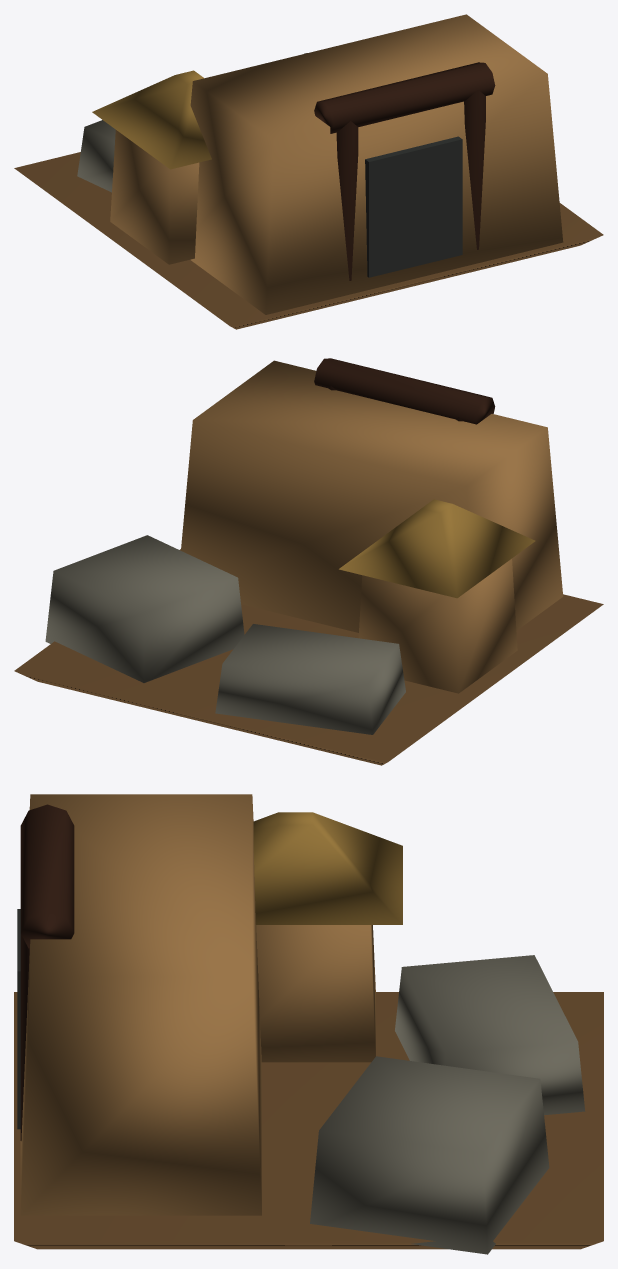
File: R50_HAN_LUOYANG_MINE_ADIT_A.fbx
The picture shows the model from 3 angles, top to bottom: view 1: azimuth 30°, elevation 25°; view 2: azimuth 150°, elevation 25°; view 3: azimuth 270°, elevation 25°; orthographic projection. The views are drawn at different scales.
Parts seen in each view (by area): view 1: hill, adit_dark, ground, hut, hut_roof, portal_top, portal_e, portal_w, spoil_e; view 2: hill, spoil_w, ground, spoil_e, hut, hut_roof, portal_top; view 3: hill, ground, spoil_w, spoil_e, hut, hut_roof, portal_top, portal_w, adit_dark.
Boxes of the visible parts, bbox=[...] form: hill: bbox=[190, 14, 563, 314]; adit_dark: bbox=[365, 136, 462, 277]; ground: bbox=[14, 152, 603, 329]; hut: bbox=[110, 130, 199, 264]; hut_roof: bbox=[92, 70, 211, 169]; portal_top: bbox=[314, 62, 495, 133]; portal_e: bbox=[336, 121, 358, 280]; portal_w: bbox=[464, 90, 485, 249]; spoil_e: bbox=[77, 120, 115, 192]; hill: bbox=[181, 360, 563, 632]; spoil_w: bbox=[45, 535, 244, 682]; ground: bbox=[14, 549, 603, 765]; spoil_e: bbox=[215, 624, 405, 734]; hut: bbox=[358, 558, 517, 693]; hut_roof: bbox=[339, 499, 535, 598]; portal_top: bbox=[314, 358, 495, 424]; hill: bbox=[20, 794, 261, 1215]; ground: bbox=[14, 992, 603, 1249]; spoil_w: bbox=[310, 1056, 549, 1254]; spoil_e: bbox=[395, 955, 585, 1115]; hut: bbox=[256, 925, 375, 1062]; hut_roof: bbox=[253, 812, 402, 924]; portal_top: bbox=[20, 804, 74, 948]; portal_w: bbox=[20, 934, 29, 1140]; adit_dark: bbox=[17, 909, 20, 1129].
Bounding box in the file's own units: 90.59 × 45.5 × 88.
